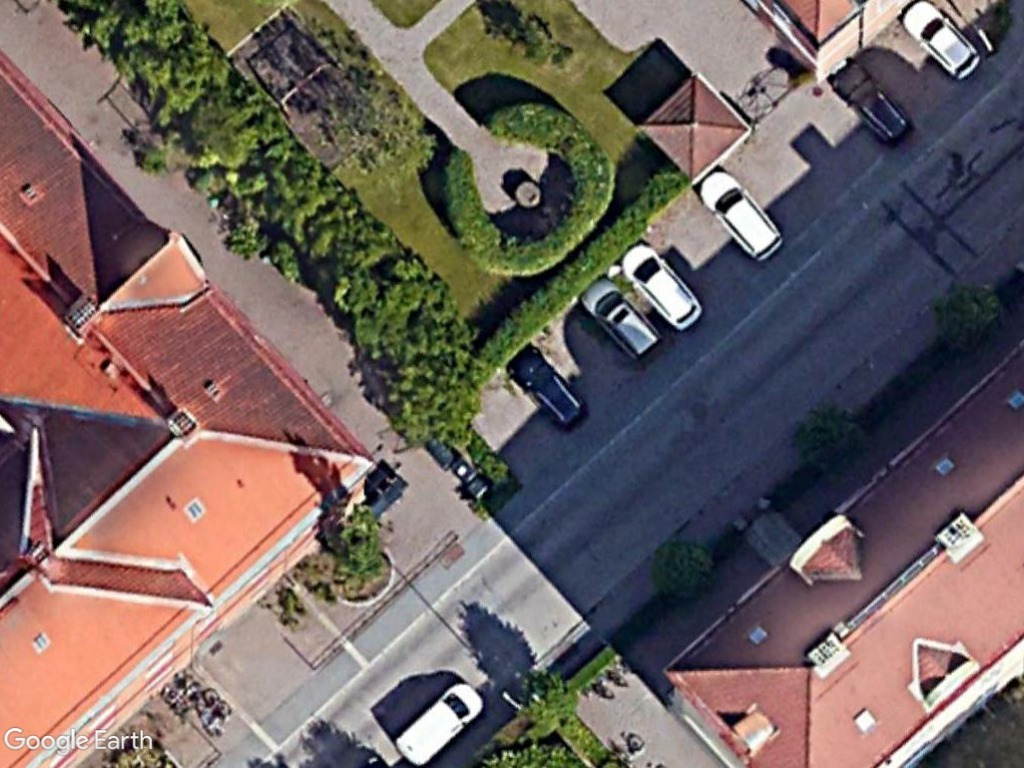car: (692, 164, 790, 269), (573, 267, 669, 371), (610, 234, 707, 332), (501, 343, 595, 435), (828, 60, 917, 154), (894, 0, 988, 87)
van: (392, 677, 490, 768)
